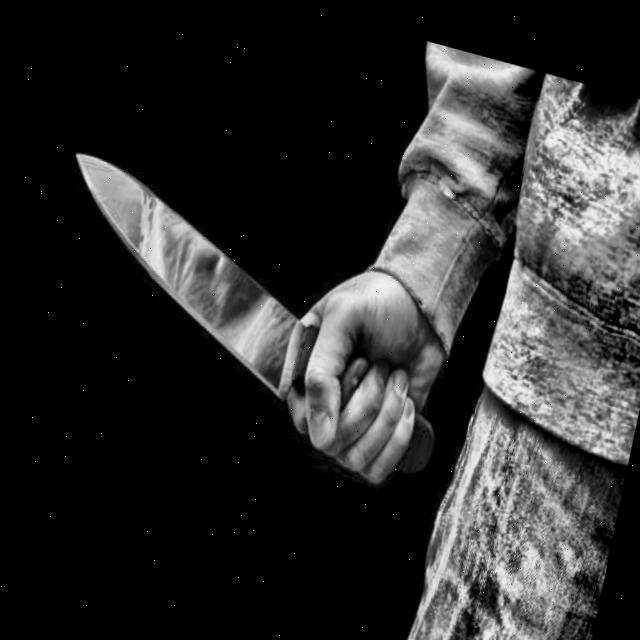pisau: (15, 134, 482, 503)
